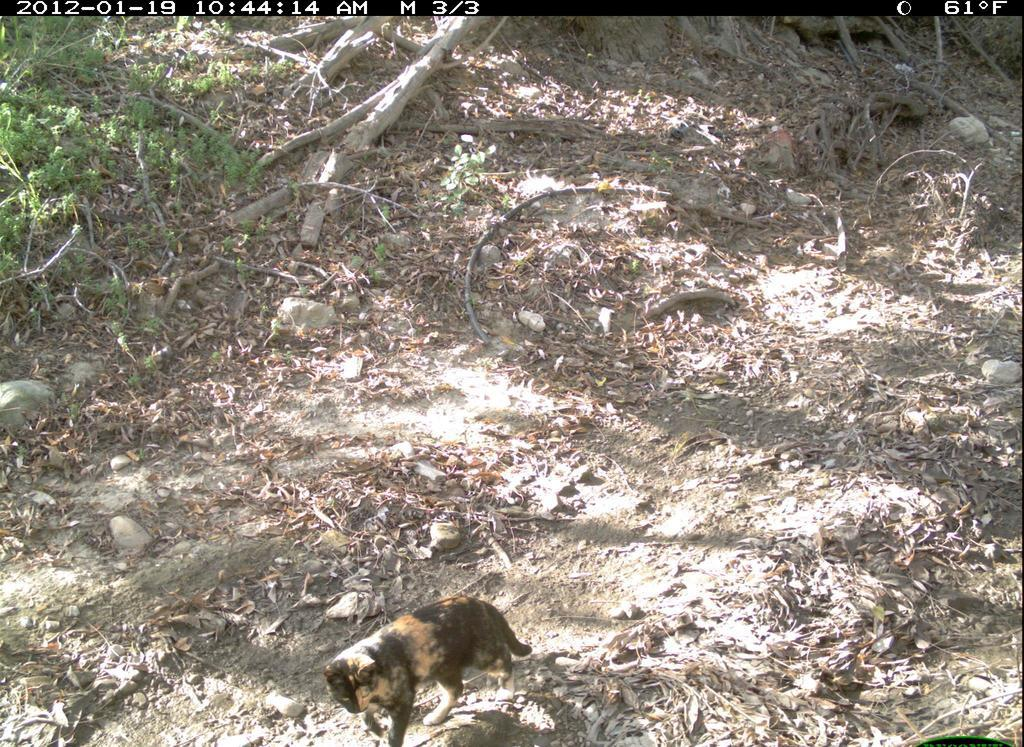cat: (319, 583, 546, 745)
